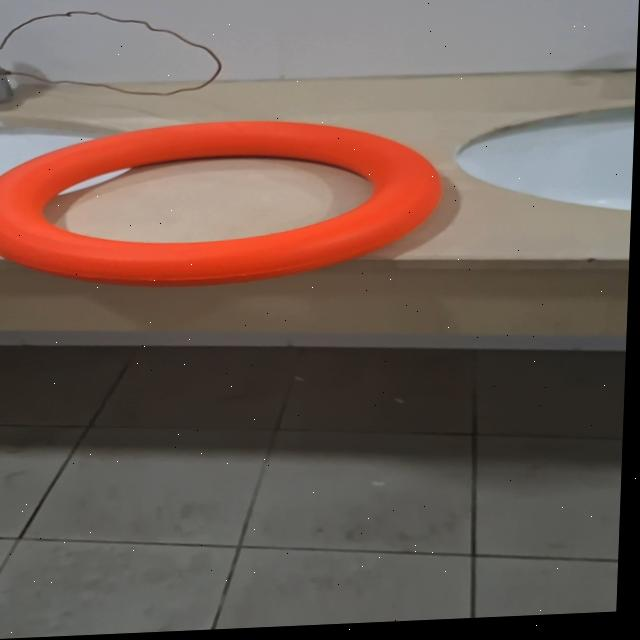note: (0, 114, 448, 296)
